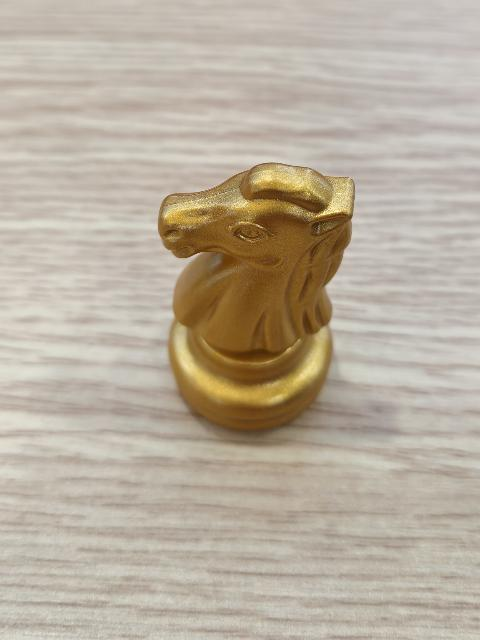black_knight: (159, 160, 361, 433)
